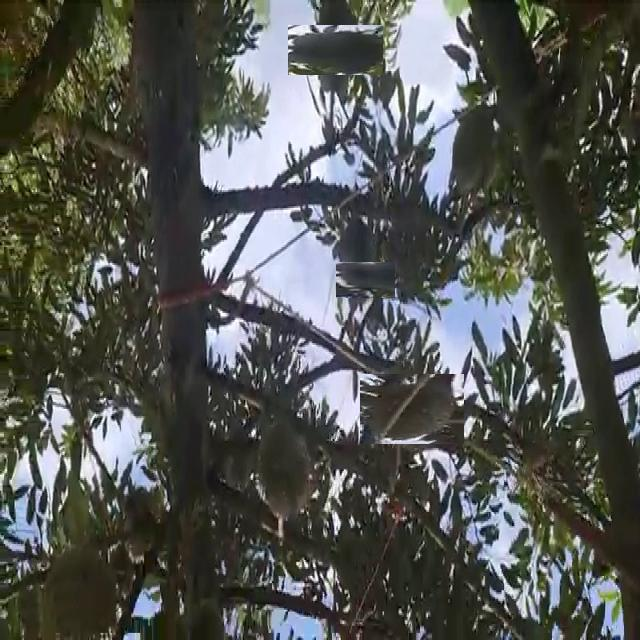durian: (250, 412, 318, 532), (368, 365, 455, 453), (447, 93, 503, 205), (299, 13, 372, 87), (338, 206, 376, 288), (342, 256, 390, 304)
